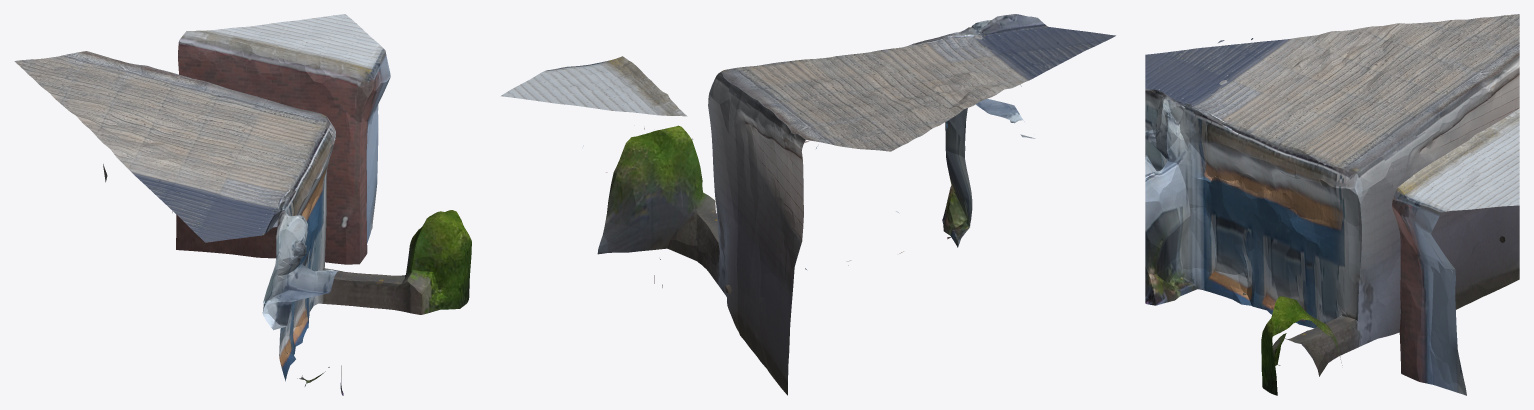
3 renders of one model, left to right at view 1: azimuth 30°, elevation 25°; view 2: azimuth 150°, elevation 25°; view 3: azimuth 270°, elevation 25°, orthographic. The views are drawn at different scales.
Size of the model in its own units: 8.36 by 5.5 by 8.36.
5 materials, 5 textured.
